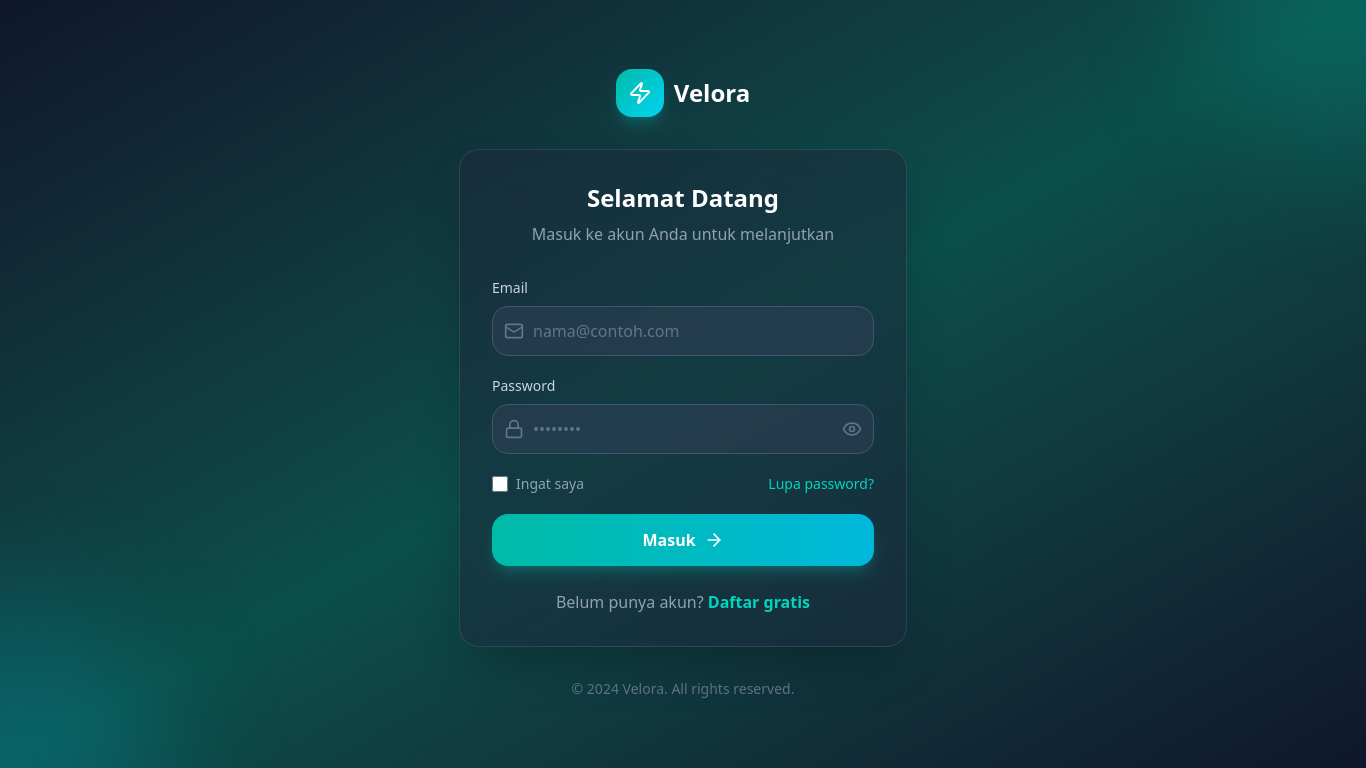
Scenario: LoginPage › handles login error
In the field labelled "Email": (683, 331) [492,306,874,356], type "test@example.com"
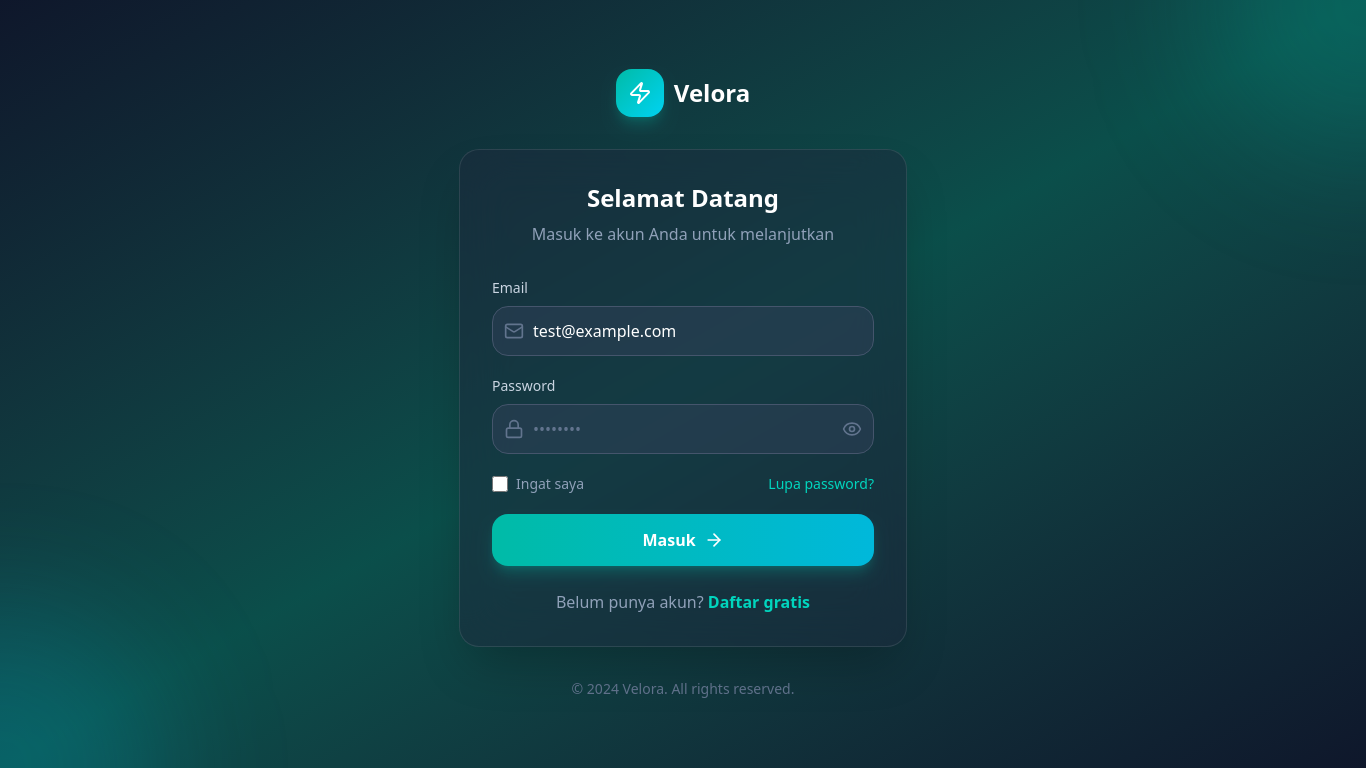
In the password field labelled "Password": (683, 429) [492,404,874,454], type "wrong"
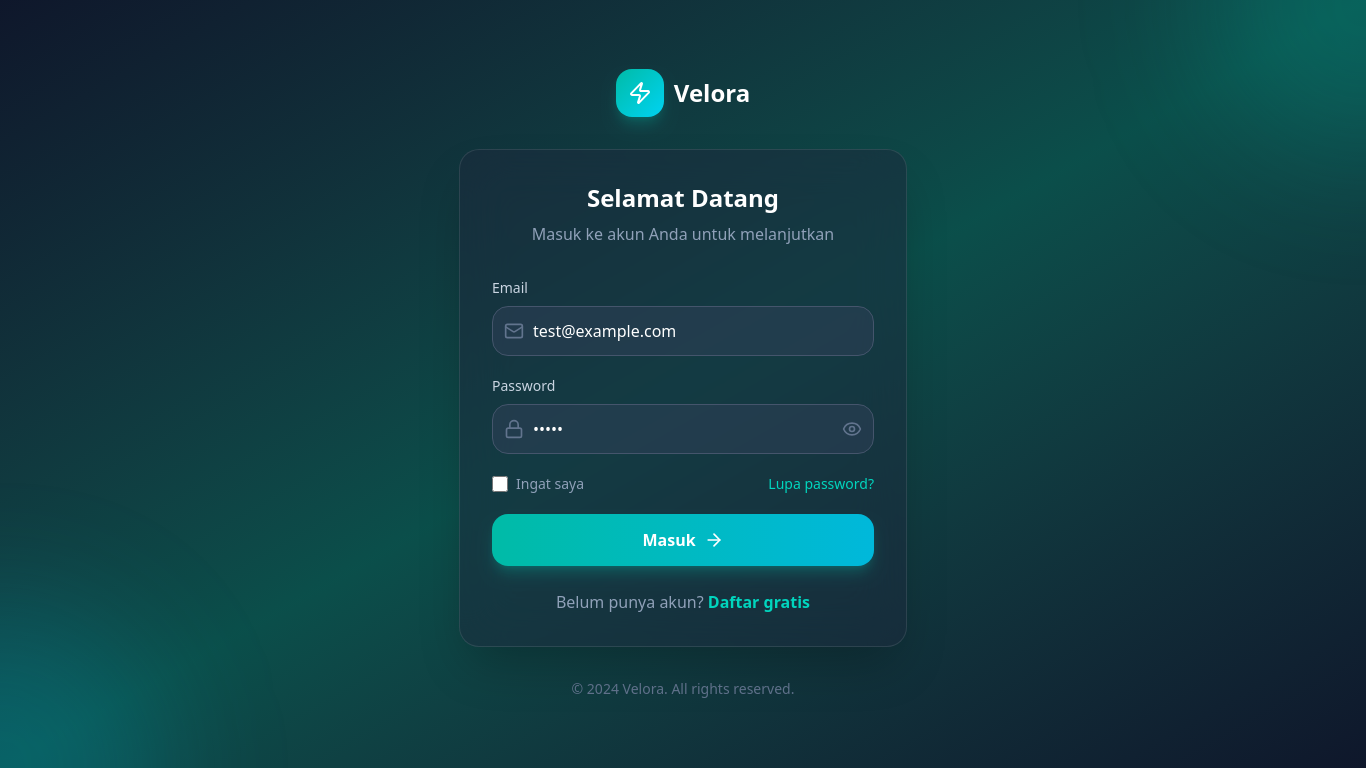
Click the button "Masuk": (683, 540) [492,514,874,566]
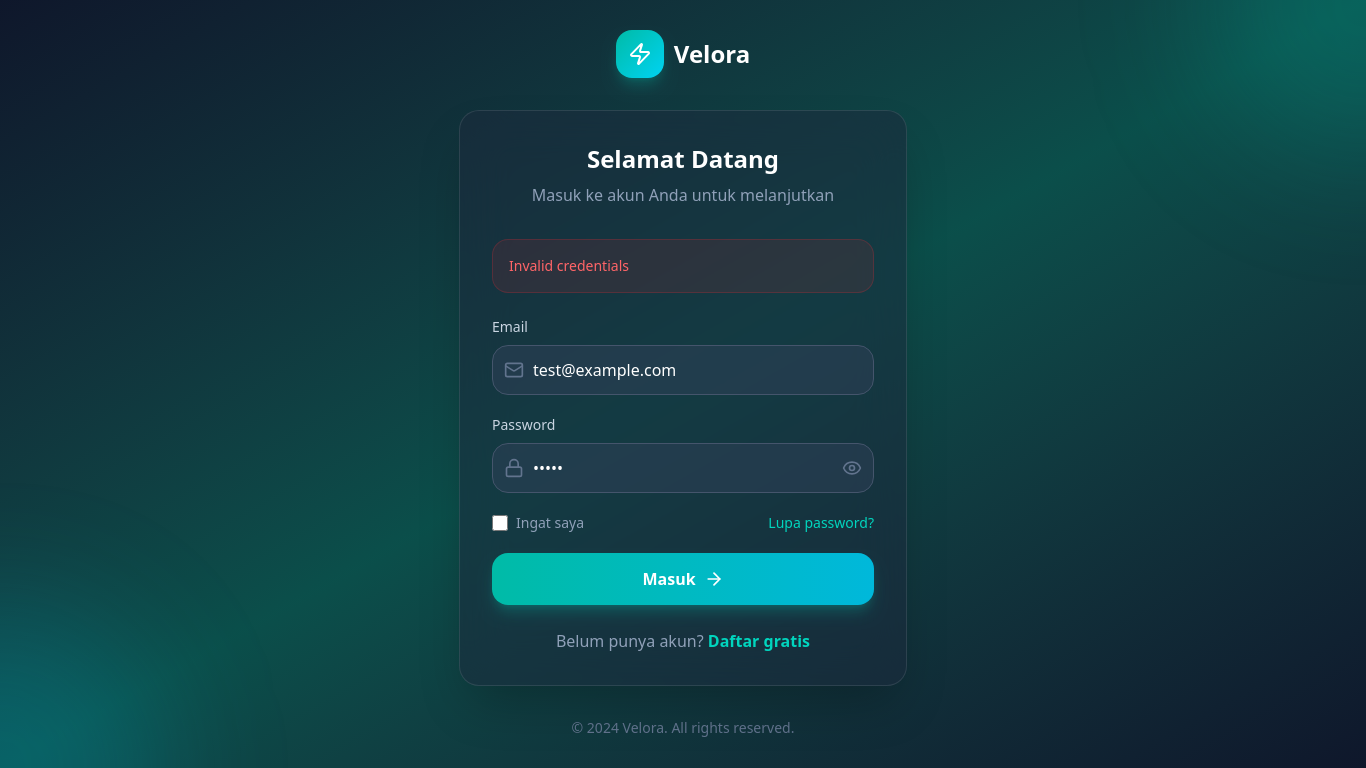
Now the text "Invalid credentials" is shown, box [509,256,629,275]
